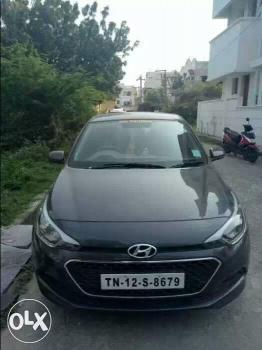T: (103, 276, 113, 289)
